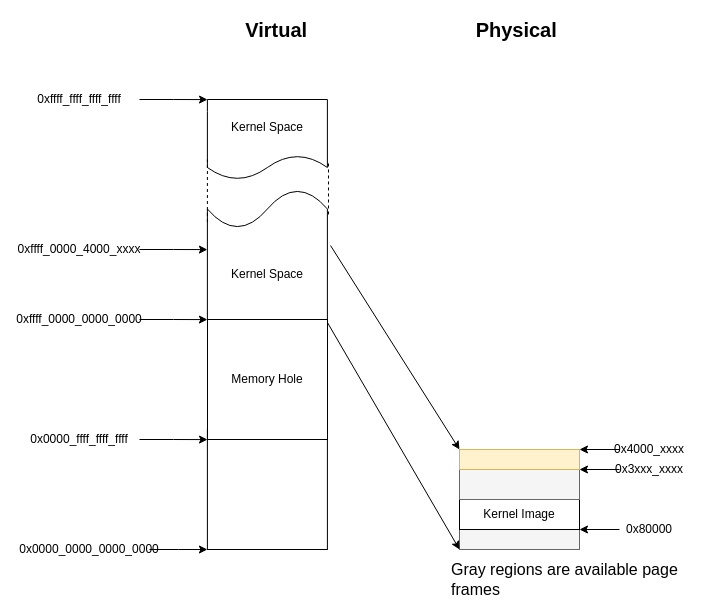
The diagram is 707 pixels wide and 615 high, and some of its shapes have lost their labels. Each missing label, with the centre of its shape:
"Peripheral" belongs at pixel 519 459.
"User Space" belongs at pixel 266 489.
